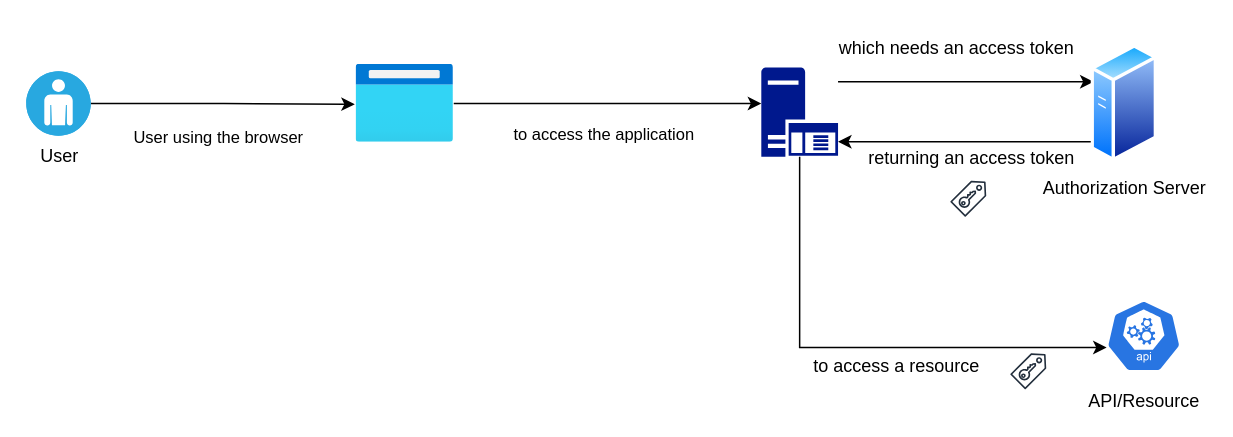
This 1233x437 diagram has some shape labels left out. Each missing label, with the box of its shape:
Application: (760, 67, 837, 156)
Browser/User Agent: (356, 64, 453, 142)
